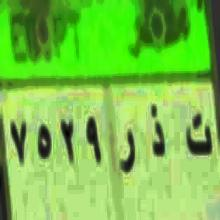2: (61, 112, 75, 174)
5: (36, 117, 52, 168)
7: (9, 111, 29, 172)
9: (84, 116, 102, 175)
raa: (117, 122, 136, 181)
taa: (183, 111, 214, 166)
zaal: (148, 100, 168, 161)
